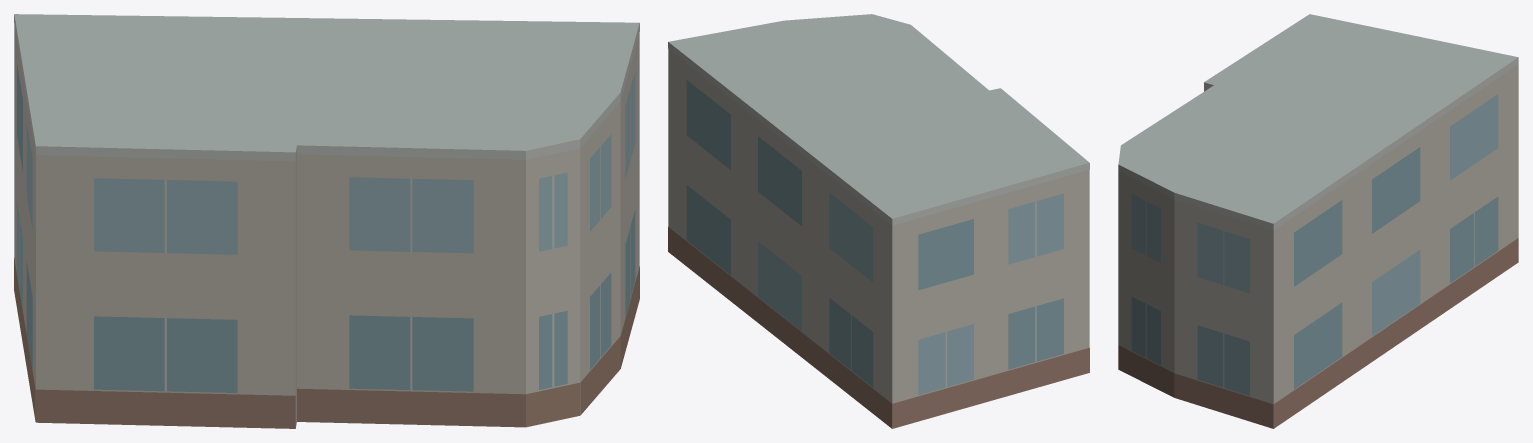
The model's file is survey-upis-32506046.glb.
3 views of the same model, side by side, from view 1: azimuth 30°, elevation 25°; view 2: azimuth 150°, elevation 25°; view 3: azimuth 270°, elevation 25° (orthographic). The views are drawn at different scales.
Parts seen in each view (by area): view 1: survey-upis-32506046.tmp; view 2: survey-upis-32506046.tmp; view 3: survey-upis-32506046.tmp.
Boxes of the visible parts, x1=… form: survey-upis-32506046.tmp: x1=14, y1=14, x2=639, y2=428; survey-upis-32506046.tmp: x1=668, y1=14, x2=1089, y2=428; survey-upis-32506046.tmp: x1=1118, y1=14, x2=1518, y2=428.
Size of the model in its own units: 16.46 by 7.5 by 13.27.
